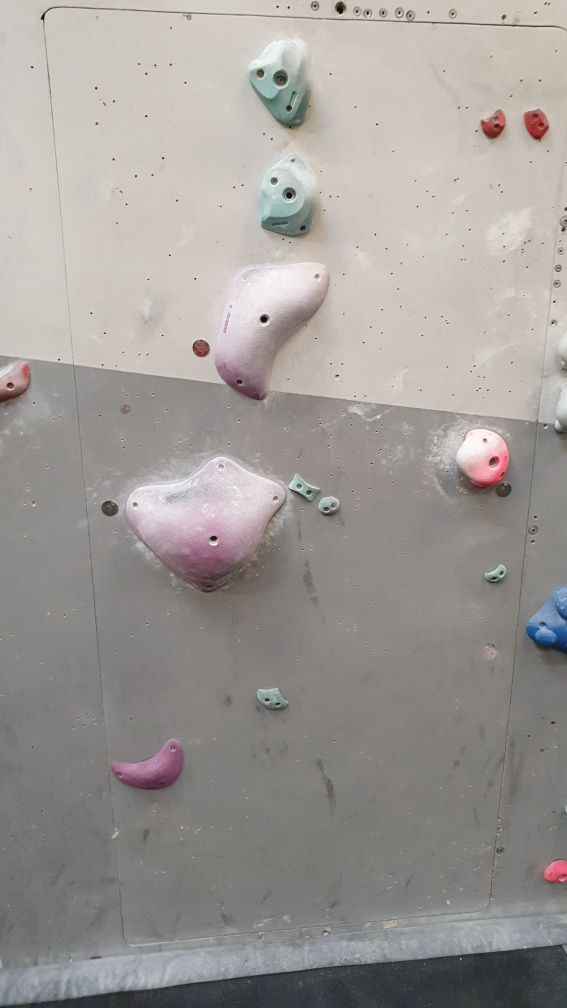Crimp: (522, 107, 553, 139), (480, 109, 506, 140)
Hand Start: (192, 336, 214, 360), (99, 499, 120, 520)
Jug: (247, 34, 312, 131), (256, 152, 323, 240), (457, 423, 517, 492)
Pinch: (288, 471, 323, 502)
Sloper: (522, 582, 567, 653)
